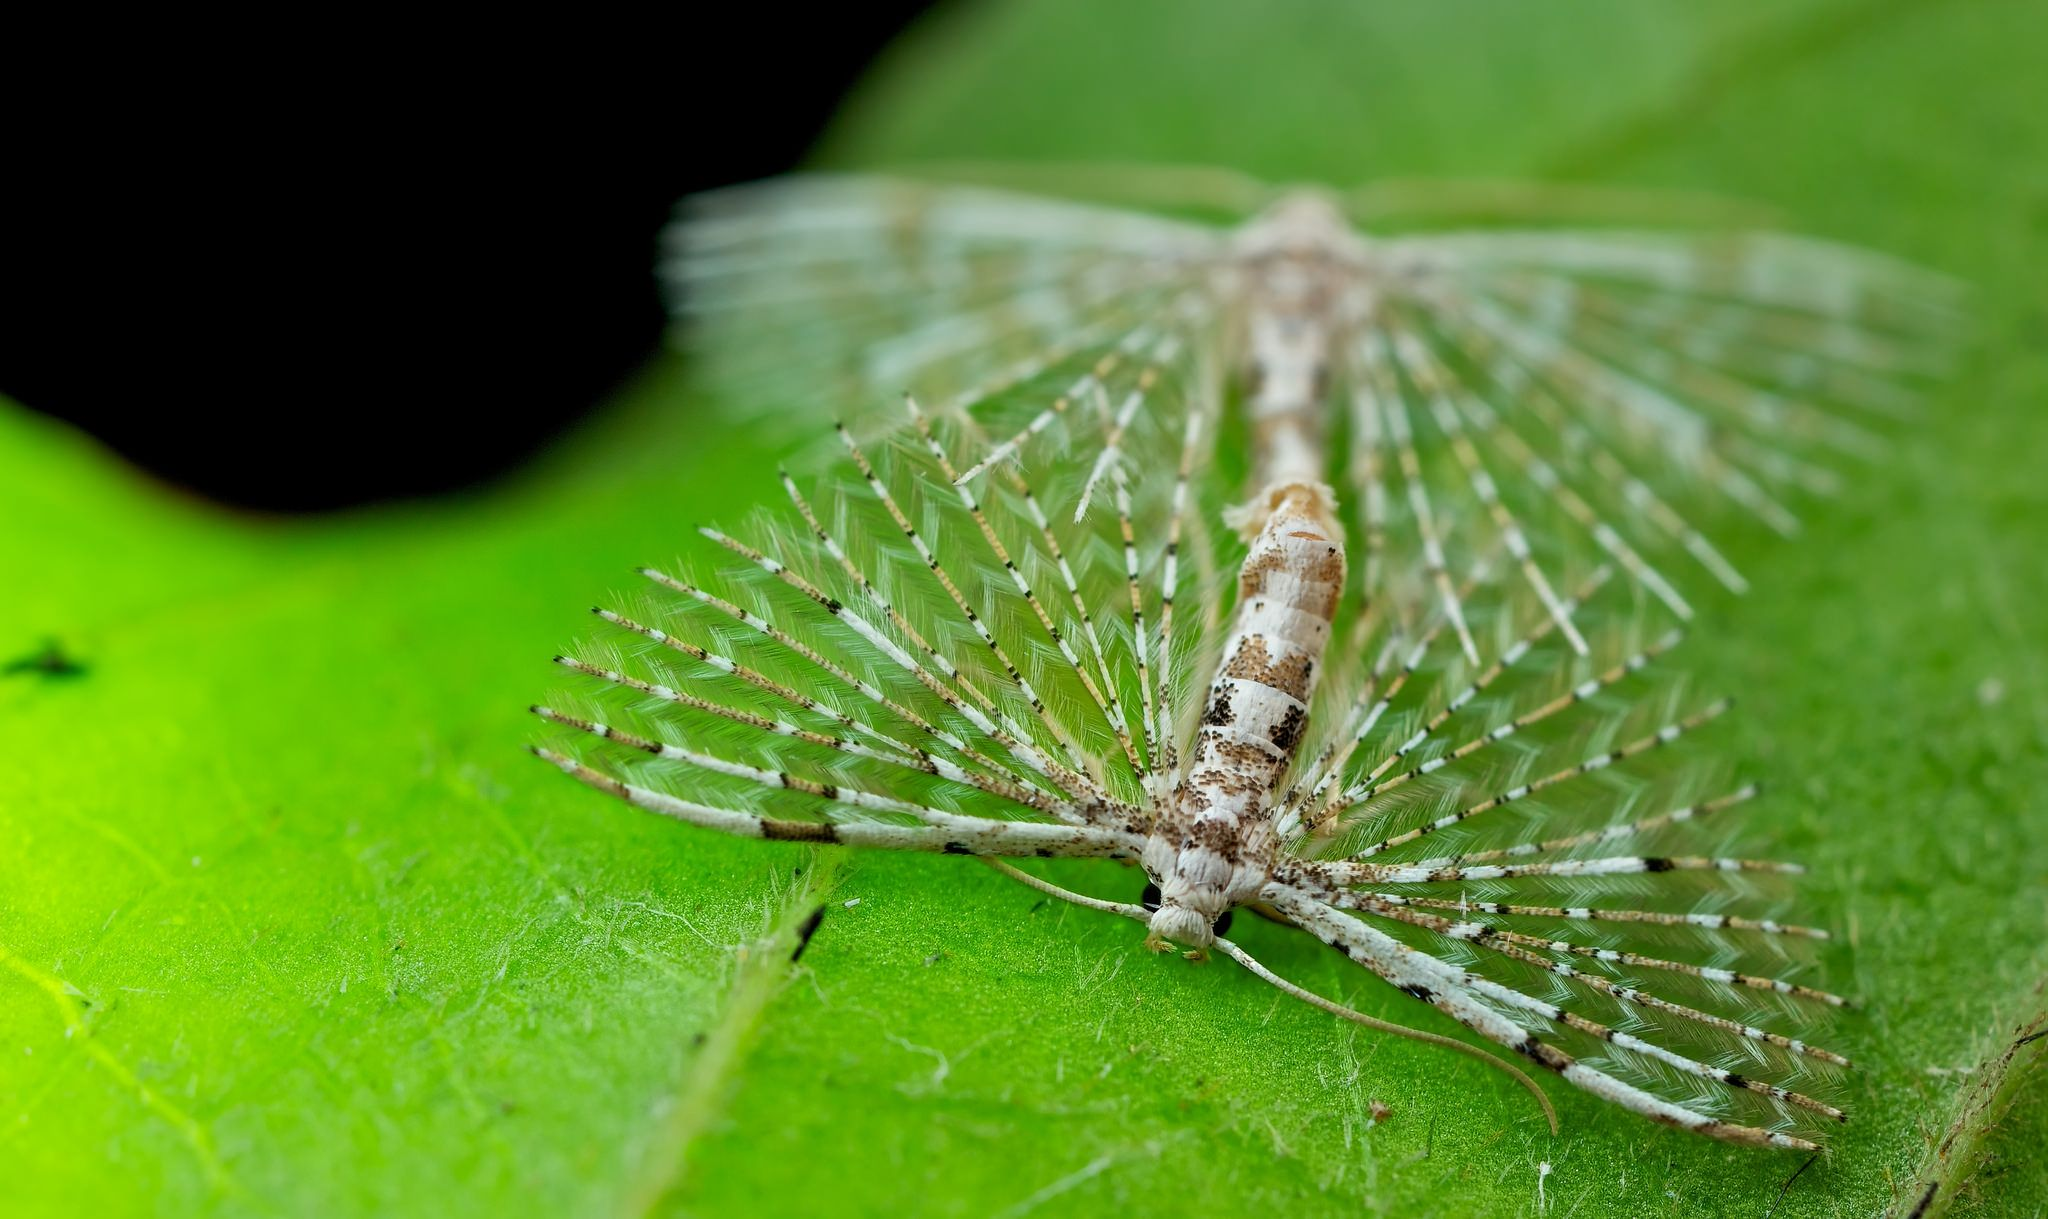Alucitidae: (482, 383, 1883, 1178)
moth: (484, 385, 1884, 1181)
